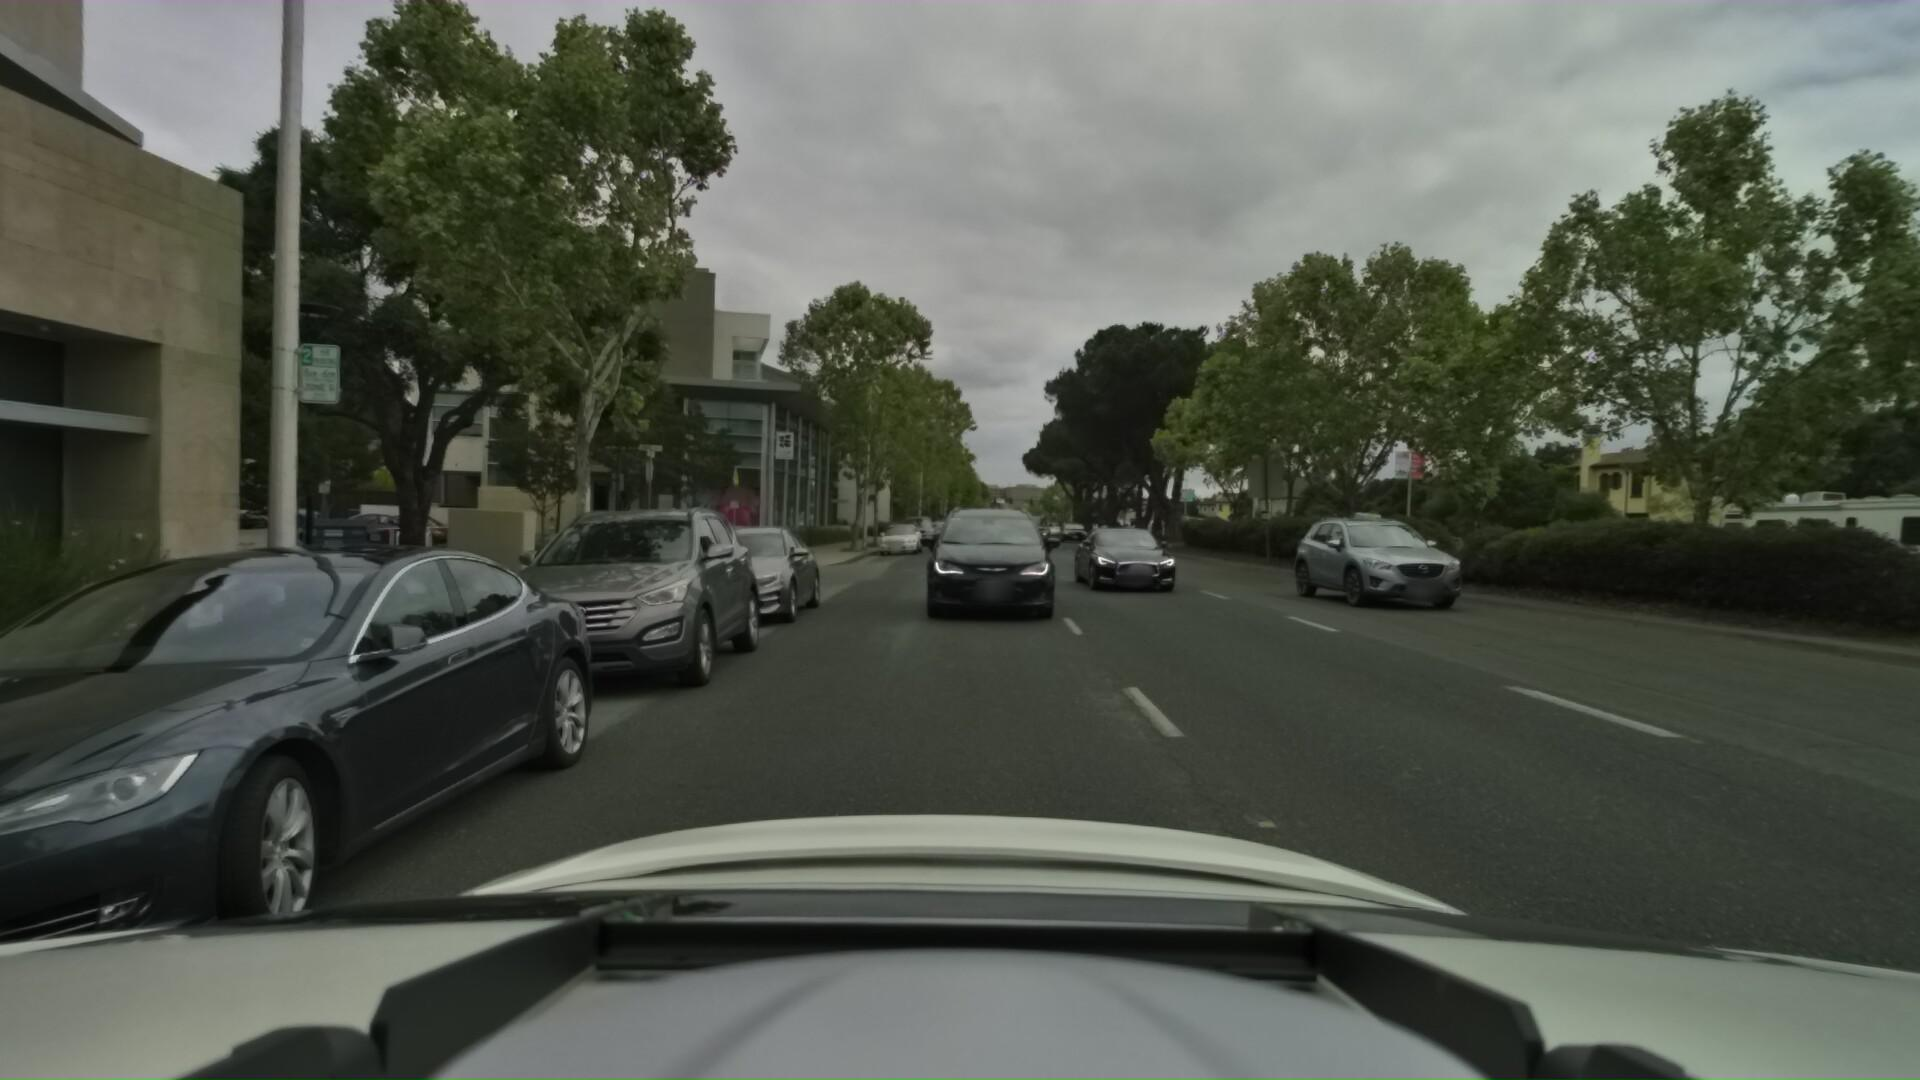car: (491, 498, 789, 709), (897, 495, 1081, 641), (659, 513, 841, 636), (1287, 506, 1484, 620), (1071, 513, 1185, 595), (334, 502, 473, 549), (1084, 508, 1137, 550), (877, 516, 928, 553), (1011, 506, 1055, 542), (905, 509, 938, 545), (1054, 512, 1091, 539), (913, 514, 945, 541)
other_vehicle: (1672, 462, 1920, 630), (1311, 502, 1390, 553)
